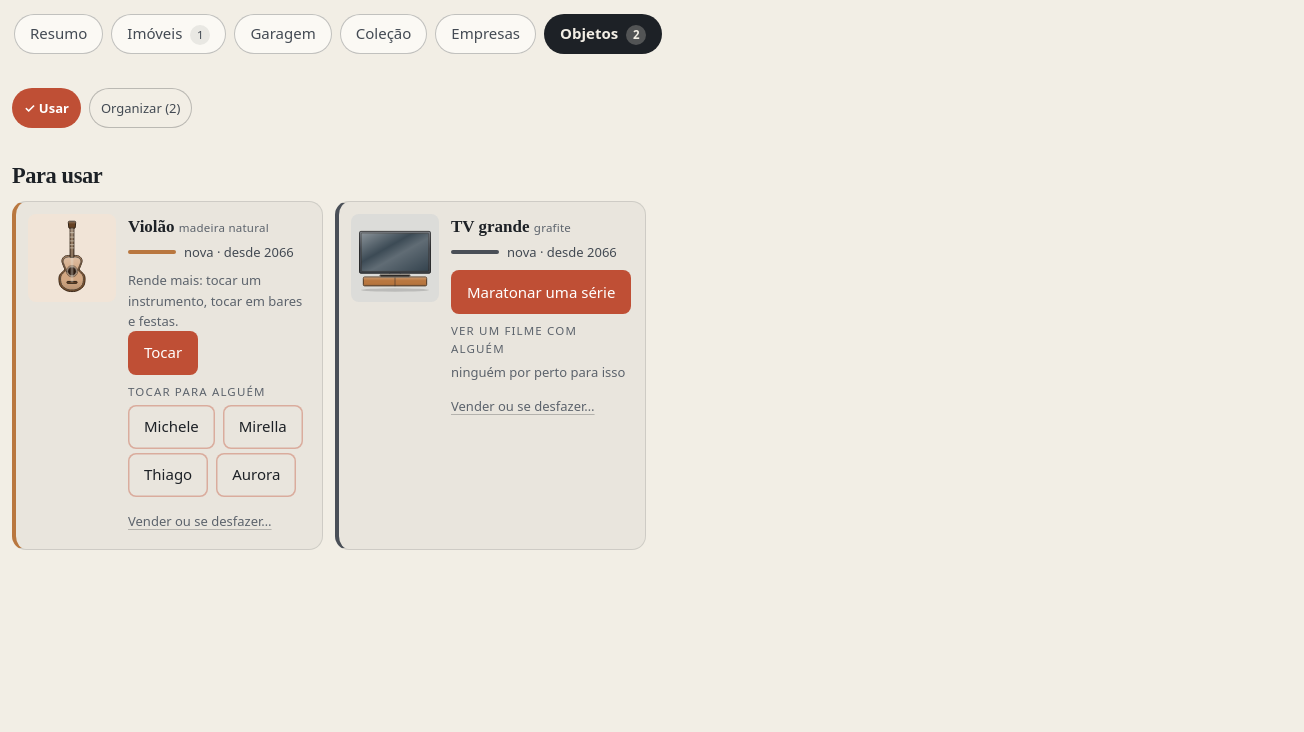
it: os objetos › Objetos tem dois modos e mostra um de cada vez
This screenshot has width=1304, height=732.
Click the radio button labelled "Organizar (2)": (141, 108) [89,88,192,128]
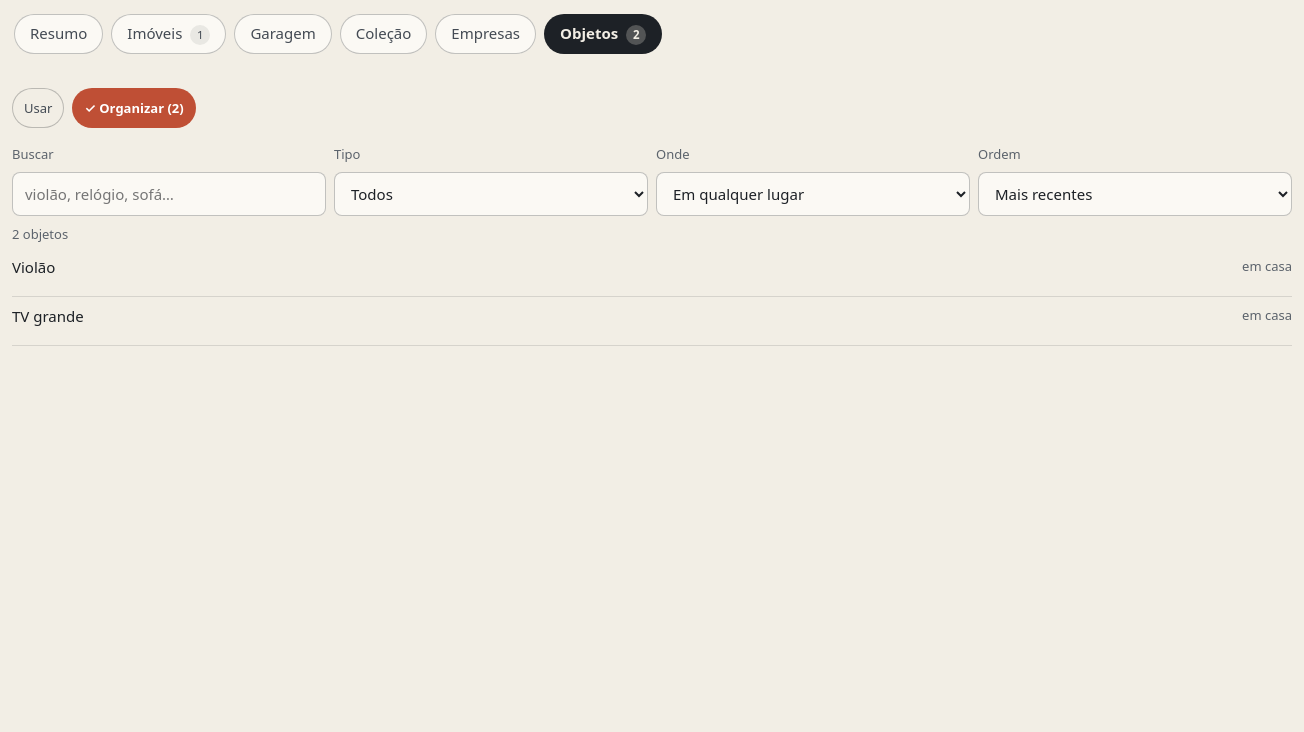
expect the element showing "Buscar Tipo Onde Ordem" is shown: met, box [12,144,1292,216]
expect the heading "Para usar" is gone: met
